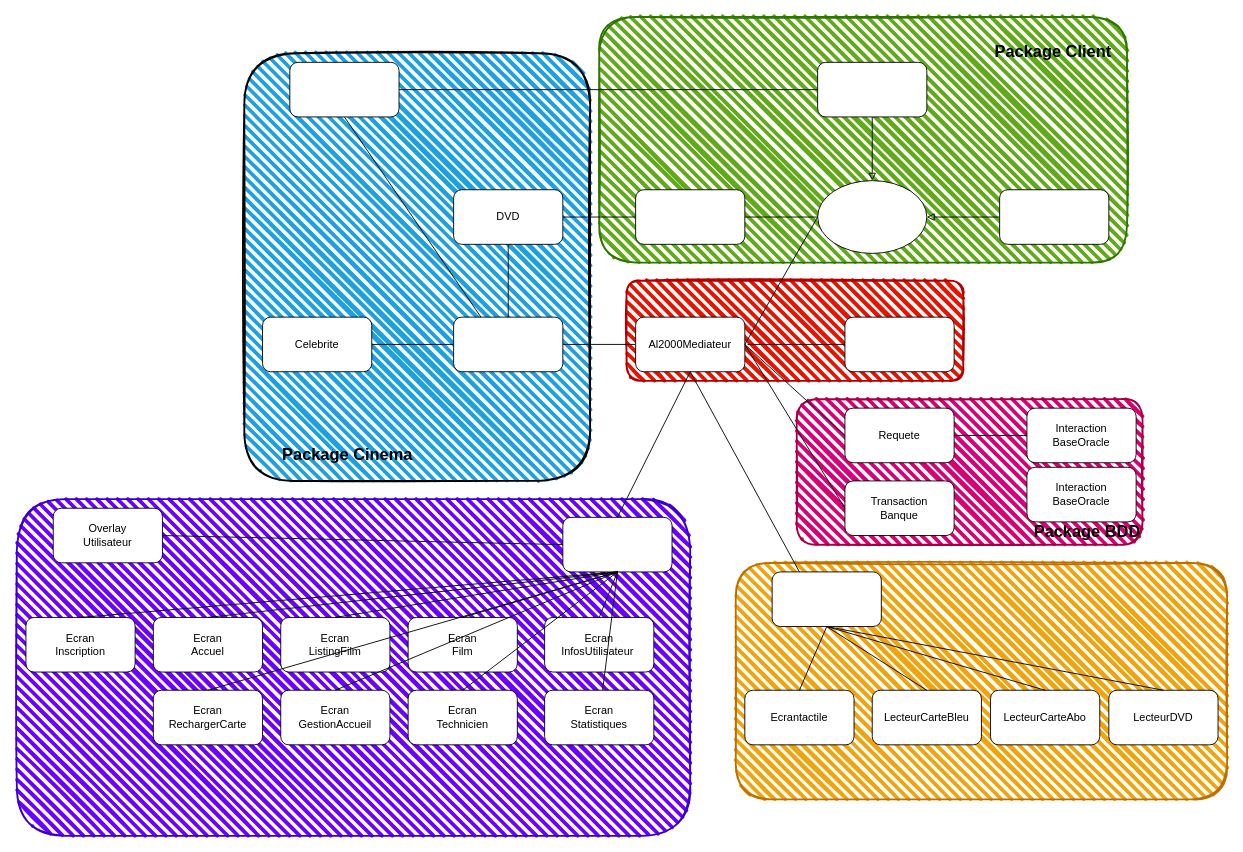
The diagram is 1243 pixels wide and 852 high, and some of its shapes have lost their labels. Here are the shapes that lost their labels. From the top down, the box of each, then its label:
(289, 61, 399, 117): Genre
(817, 61, 927, 117): Abonne
(635, 189, 745, 244): Location
(817, 180, 927, 253): Utilisateur
(999, 189, 1109, 244): NonAbonne
(453, 316, 563, 372): Film
(625, 279, 964, 381): Package Donnée
(844, 316, 954, 372): Statistique
(562, 516, 672, 572): Affichage
(771, 571, 881, 627): Controleur
(15, 498, 691, 836): Package Vue
(734, 561, 1228, 800): Package Controller
